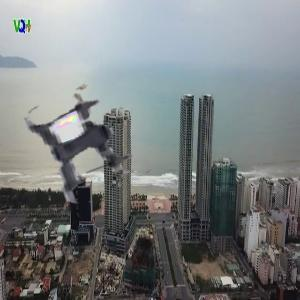drone: (16, 79, 150, 213)
